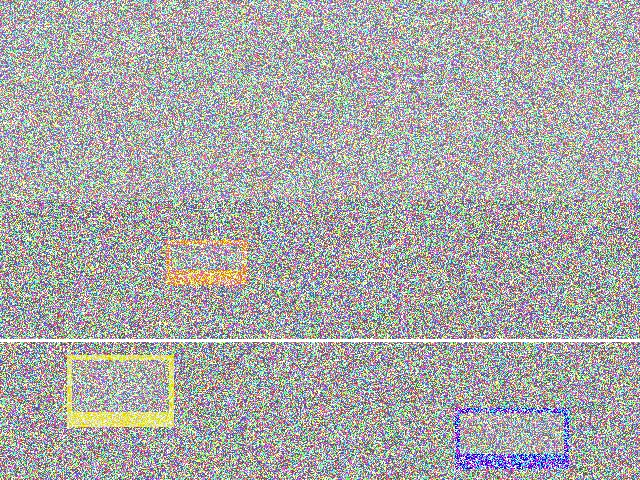truck: (208, 274, 345, 396)
